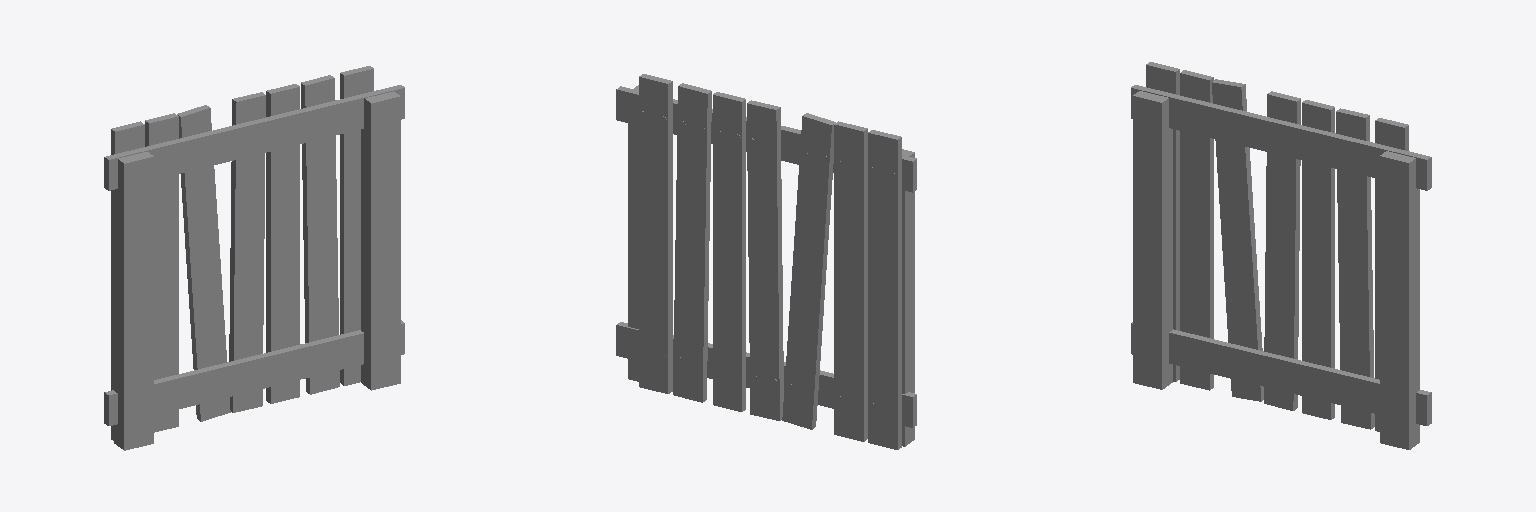
File: woodenfence.obj
3 renders of one model, left to right at view 1: azimuth 30°, elevation 25°; view 2: azimuth 150°, elevation 25°; view 3: azimuth 330°, elevation 25°, orthographic.
Parts seen in each view (by area): view 1: Cube.009; view 2: Cube.009; view 3: Cube.009.
Part boxes in pixels (bbox=[...]): Cube.009: bbox=[104, 66, 404, 450]; Cube.009: bbox=[616, 74, 916, 449]; Cube.009: bbox=[1131, 62, 1431, 449].
Size of the model in its own units: 4 by 4.02 by 0.3679.